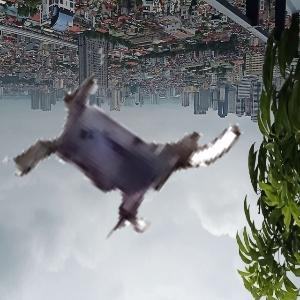drone: (9, 39, 233, 263)
